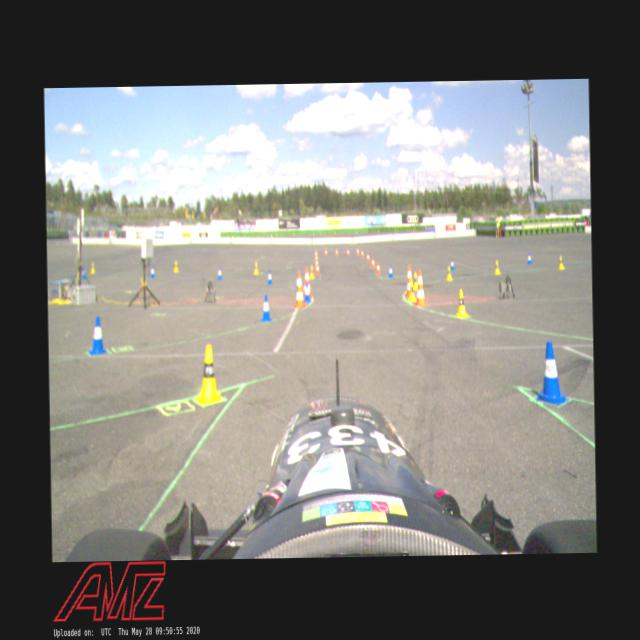blue_cone: (534, 339, 566, 406), (88, 316, 106, 354), (260, 294, 272, 322), (303, 282, 310, 302), (265, 270, 272, 284), (387, 265, 394, 278), (526, 250, 532, 264), (216, 266, 222, 280), (148, 265, 154, 278), (449, 256, 454, 270)
large_orange_cone: (416, 266, 428, 308), (302, 266, 314, 298), (294, 270, 304, 308), (404, 263, 414, 298)
orange_cone: (370, 256, 376, 268), (375, 261, 380, 274), (315, 262, 319, 274), (323, 248, 328, 256), (346, 247, 350, 256), (334, 247, 338, 256), (366, 252, 369, 262), (361, 249, 364, 258), (356, 247, 359, 256)
yellow_cone: (195, 342, 225, 402), (455, 288, 468, 318), (408, 276, 417, 304), (412, 270, 418, 292), (557, 255, 565, 270), (445, 265, 452, 281), (494, 259, 501, 275), (308, 264, 314, 280), (89, 261, 95, 274), (172, 260, 178, 272), (253, 262, 259, 274)
